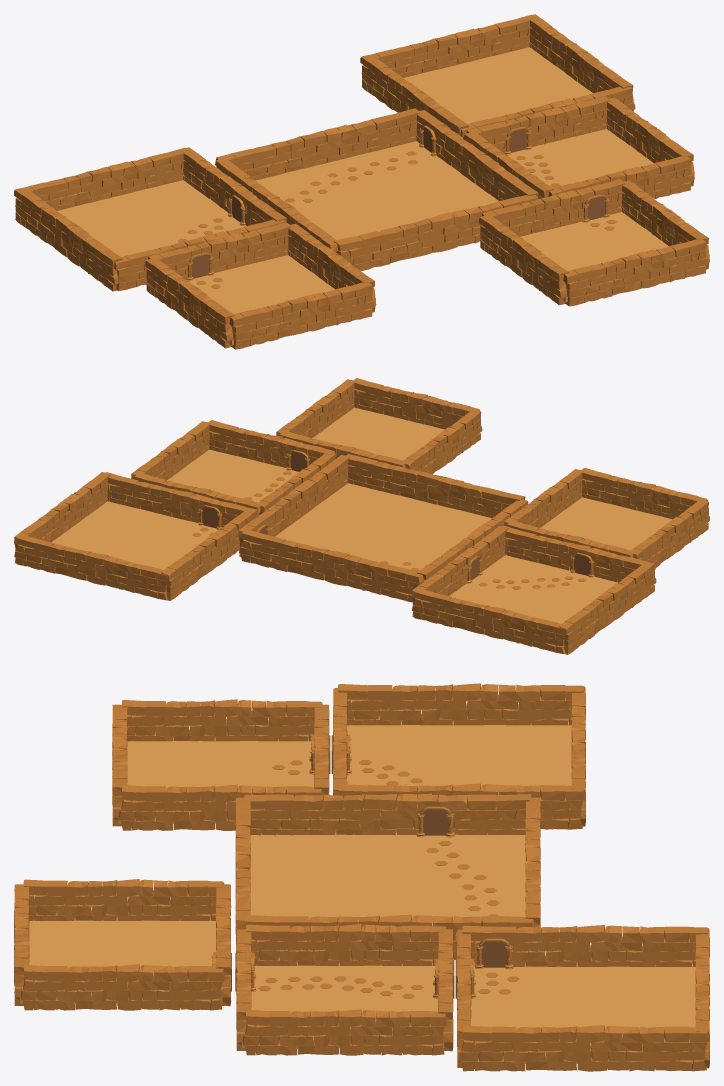
Rendered from just_rooms.fbx.
3 views of the same model, one above another, from view 1: azimuth 30°, elevation 25°; view 2: azimuth 150°, elevation 25°; view 3: azimuth 270°, elevation 25° (orthographic). The views are drawn at different scales.
Visible parts, largest first — view 1: Cube.027, Cube.003, Cube.068, Cube.051, Cube.008, Cube.030; view 2: Cube.027, Cube.003, Cube.008, Cube.068, Cube.051, Cube.030; view 3: Cube.027, Cube.008, Cube.003, Cube.030, Cube.051, Cube.068.
Part boxes in pixels (x1,y1,x2,y2): Cube.027: [215, 108, 538, 270]; Cube.003: [14, 147, 286, 291]; Cube.068: [145, 222, 376, 349]; Cube.051: [479, 179, 709, 306]; Cube.008: [360, 14, 635, 139]; Cube.030: [464, 96, 694, 198]; Cube.027: [238, 454, 528, 602]; Cube.003: [411, 526, 656, 654]; Cube.008: [14, 472, 257, 600]; Cube.068: [504, 468, 709, 567]; Cube.051: [276, 378, 482, 474]; Cube.030: [131, 420, 335, 516]; Cube.027: [235, 793, 540, 959]; Cube.008: [455, 925, 709, 1071]; Cube.003: [331, 683, 585, 829]; Cube.030: [235, 924, 454, 1055]; Cube.051: [14, 879, 231, 1010]; Cube.068: [112, 699, 330, 830].
Size of the model in its own units: 41.82 by 2.26 by 35.32.
